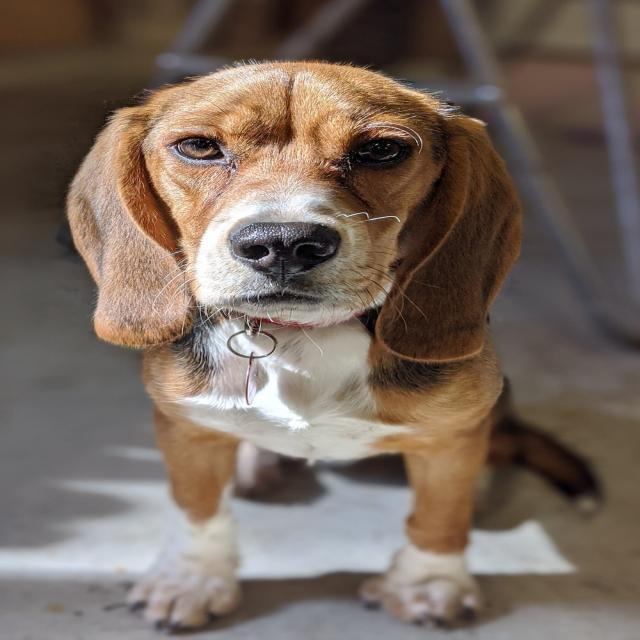beagle: (42, 42, 534, 413)
